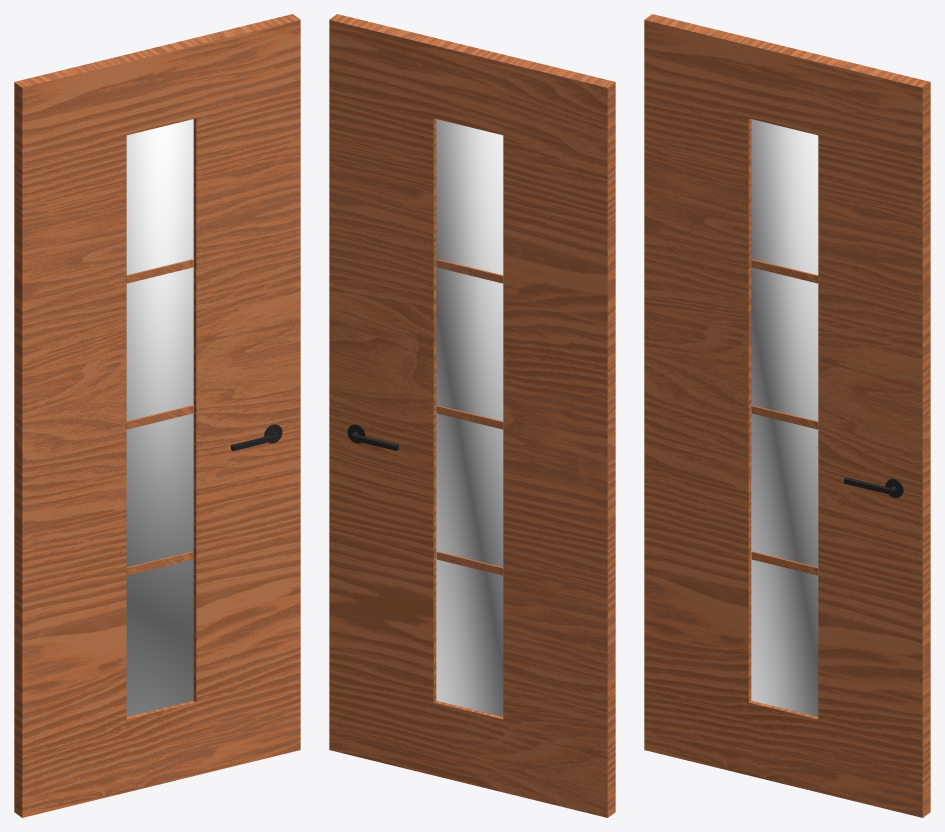
Rendered from drzwi1ruch.glb.
The picture shows the model from 3 angles, left to right: view 1: azimuth 30°, elevation 25°; view 2: azimuth 150°, elevation 25°; view 3: azimuth 330°, elevation 25°; orthographic projection.
Visible parts, largest first — view 1: Drzwi_Premium_Naprawione, Drzwi_Premium_Z_Klamkami_Odwrotnymi_Symetrycznymi_RamaZew, Sześcian.002, Sześcian, Sześcian.001, Drzwi_Premium_Naprawione_Klamka_Front; view 2: Drzwi_Premium_Naprawione, Drzwi_Premium_Z_Klamkami_Odwrotnymi_Symetrycznymi_RamaZew, Sześcian.002, Sześcian, Sześcian.001, Drzwi_Premium_Naprawione_Klamka_Front; view 3: Drzwi_Premium_Naprawione, Drzwi_Premium_Z_Klamkami_Odwrotnymi_Symetrycznymi_RamaZew, Sześcian.002, Sześcian, Sześcian.001, Drzwi_Premium_Naprawione_Klamka_Front.
Boxes of the visible parts, bbox=[...] form: Drzwi_Premium_Naprawione: bbox=[14, 14, 300, 817]; Drzwi_Premium_Z_Klamkami_Odwrotnymi_Symetrycznymi_RamaZew: bbox=[126, 119, 193, 716]; Sześcian.002: bbox=[126, 551, 193, 575]; Sześcian: bbox=[126, 259, 193, 283]; Sześcian.001: bbox=[126, 405, 193, 429]; Drzwi_Premium_Naprawione_Klamka_Front: bbox=[231, 424, 282, 450]; Drzwi_Premium_Naprawione: bbox=[329, 14, 615, 817]; Drzwi_Premium_Z_Klamkami_Odwrotnymi_Symetrycznymi_RamaZew: bbox=[436, 119, 503, 716]; Sześcian.002: bbox=[436, 551, 503, 575]; Sześcian: bbox=[436, 259, 503, 283]; Sześcian.001: bbox=[436, 405, 503, 429]; Drzwi_Premium_Naprawione_Klamka_Front: bbox=[347, 424, 398, 450]; Drzwi_Premium_Naprawione: bbox=[644, 14, 930, 817]; Drzwi_Premium_Z_Klamkami_Odwrotnymi_Symetrycznymi_RamaZew: bbox=[751, 119, 818, 716]; Sześcian.002: bbox=[751, 551, 818, 575]; Sześcian: bbox=[751, 259, 818, 283]; Sześcian.001: bbox=[751, 405, 818, 429]; Drzwi_Premium_Naprawione_Klamka_Front: bbox=[844, 477, 903, 497].
Size of the model in its own units: 0.8 by 2 by 0.096.
Materials: 62 (4 with a texture image).
